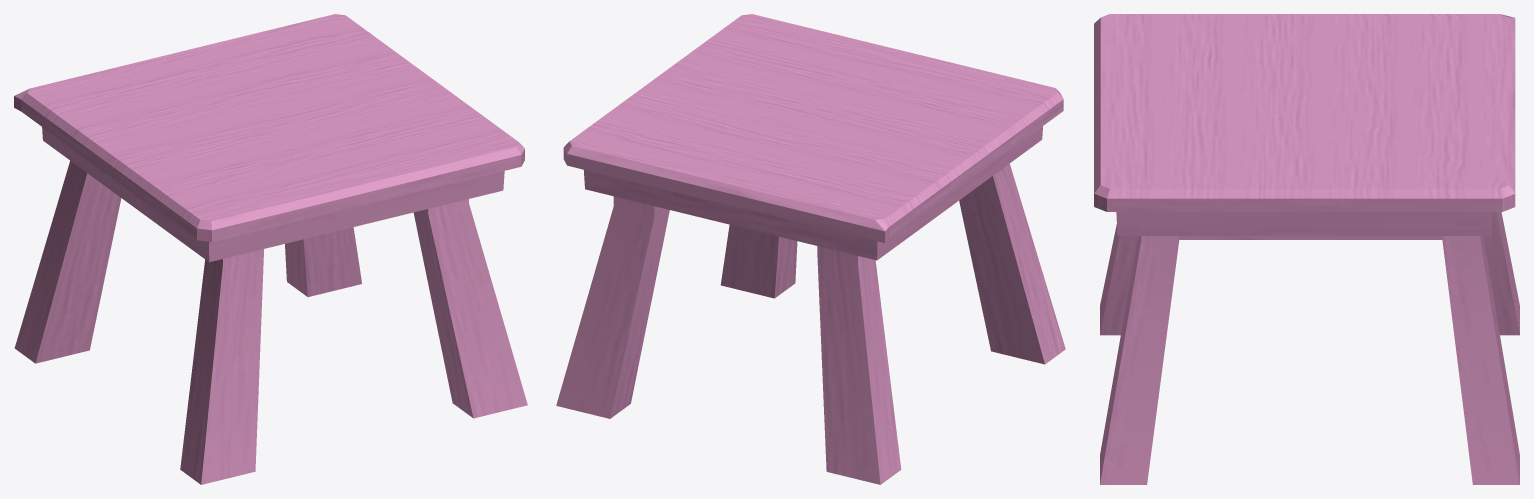
The model's file is Stool_H.FBX.
3 renders of one model, left to right at view 1: azimuth 30°, elevation 25°; view 2: azimuth 150°, elevation 25°; view 3: azimuth 270°, elevation 25°, orthographic. The views are drawn at different scales.
Parts seen in each view (by area): view 1: Stool; view 2: Stool; view 3: Stool.
Part boxes in pixels (<box>): Stool: <box>14,14,527,484</box>; Stool: <box>556,14,1065,484</box>; Stool: <box>1094,14,1519,484</box>.
Size of the model in its own units: 121 by 91.5 by 120.
